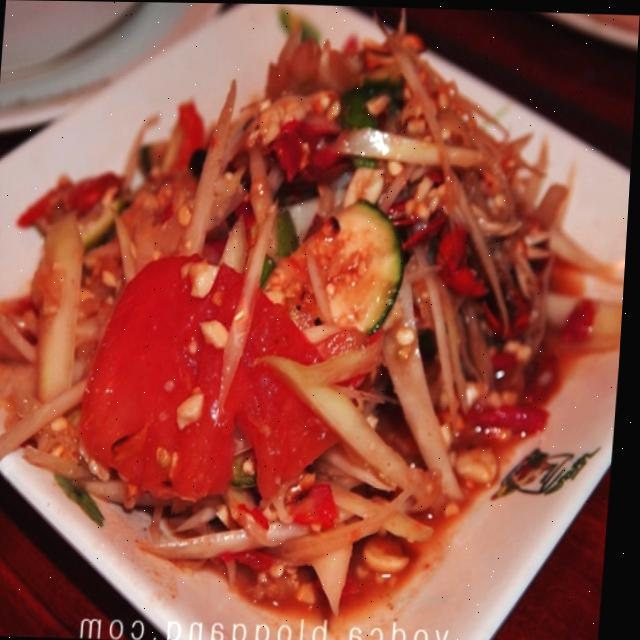蔬菜料理: (0, 5, 630, 622)
